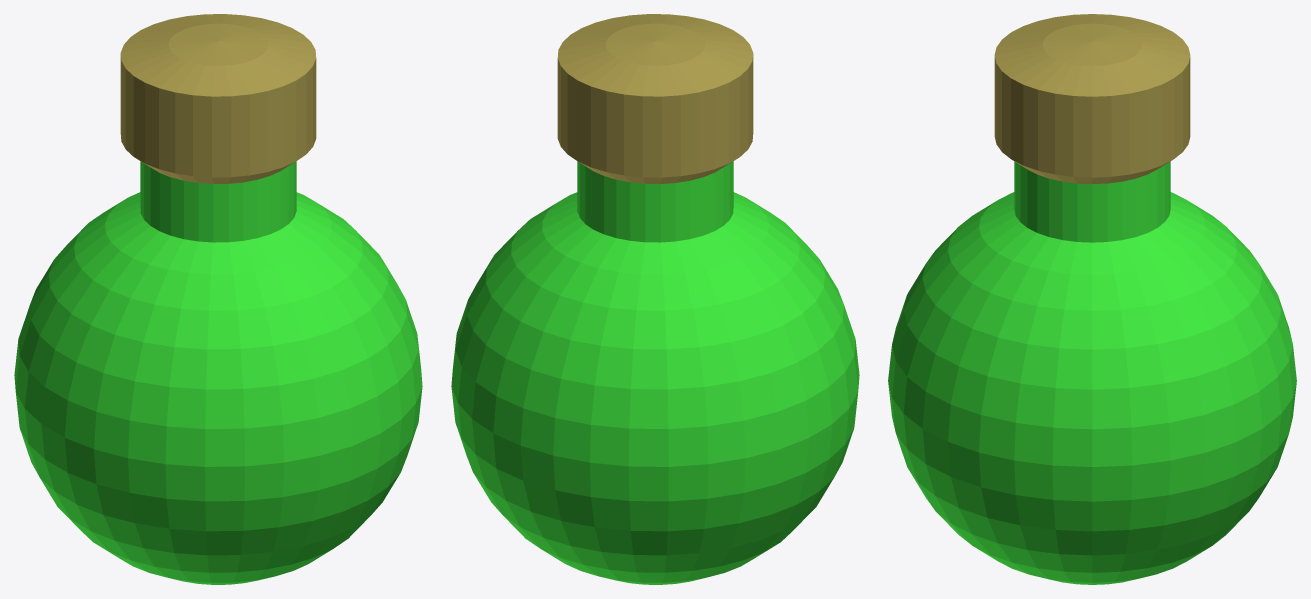
The model's file is flask.glb.
3 renders of one model, left to right at view 1: azimuth 30°, elevation 25°; view 2: azimuth 150°, elevation 25°; view 3: azimuth 270°, elevation 25°, orthographic.
Visible parts, largest first — view 1: Sphere; view 2: Sphere; view 3: Sphere.
Boxes of the visible parts, left/top/right/bottom form: Sphere: left=14, top=14, right=422, bottom=584; Sphere: left=451, top=14, right=859, bottom=584; Sphere: left=888, top=14, right=1296, bottom=584.
Bounding box in the file's own units: 0.4 × 0.5664 × 0.4.
